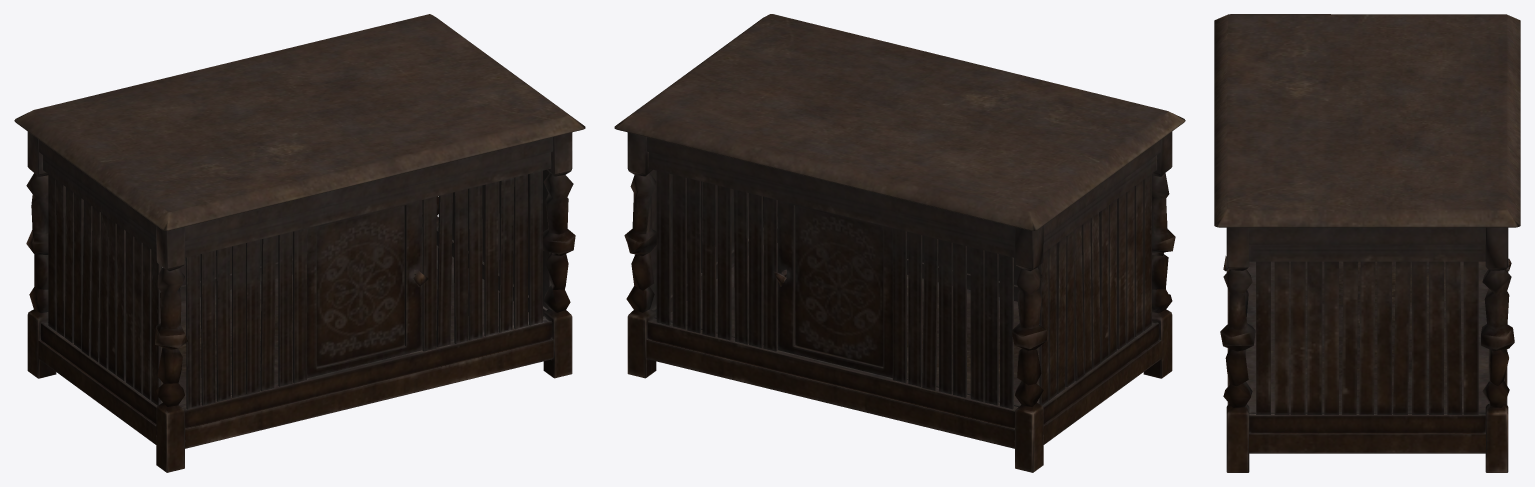
The model's file is gallinera_table_lod2.glb.
The picture shows the model from 3 angles, left to right: view 1: azimuth 30°, elevation 25°; view 2: azimuth 150°, elevation 25°; view 3: azimuth 270°, elevation 25°; orthographic projection.
Visible parts, largest first — view 1: gallinera_table, gallinera_table_door_a; view 2: gallinera_table, gallinera_table_door_b; view 3: gallinera_table.
Boxes of the visible parts, x1=… form: gallinera_table: x1=14, y1=14, x2=585, y2=472; gallinera_table_door_a: x1=307, y1=200, x2=428, y2=378; gallinera_table: x1=614, y1=14, x2=1185, y2=472; gallinera_table_door_b: x1=773, y1=200, x2=892, y2=378; gallinera_table: x1=1214, y1=14, x2=1520, y2=472.
Bounding box in the file's own units: 0.8301 × 0.4872 × 0.5183.
Materials: 1 (1 with a texture image).
